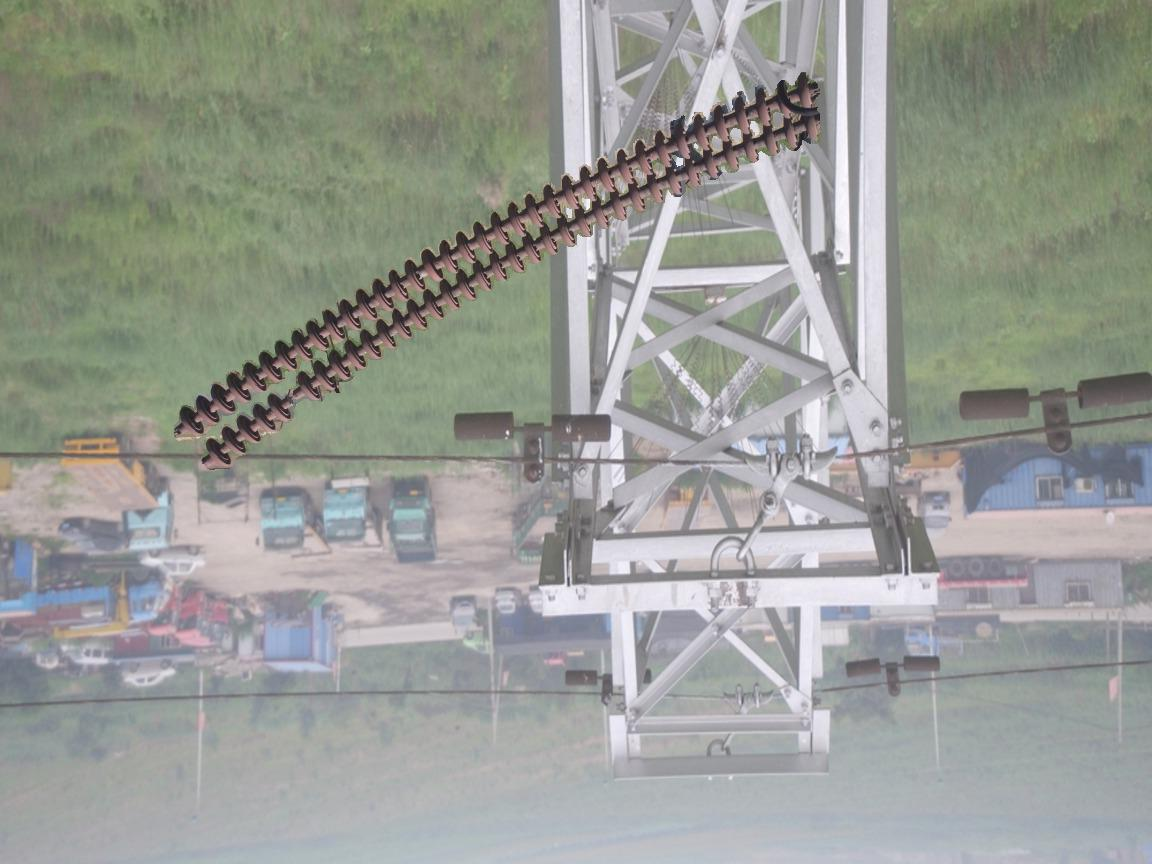insulator: (171, 67, 826, 474)
insulator_stringdrop: (264, 368, 324, 425)
